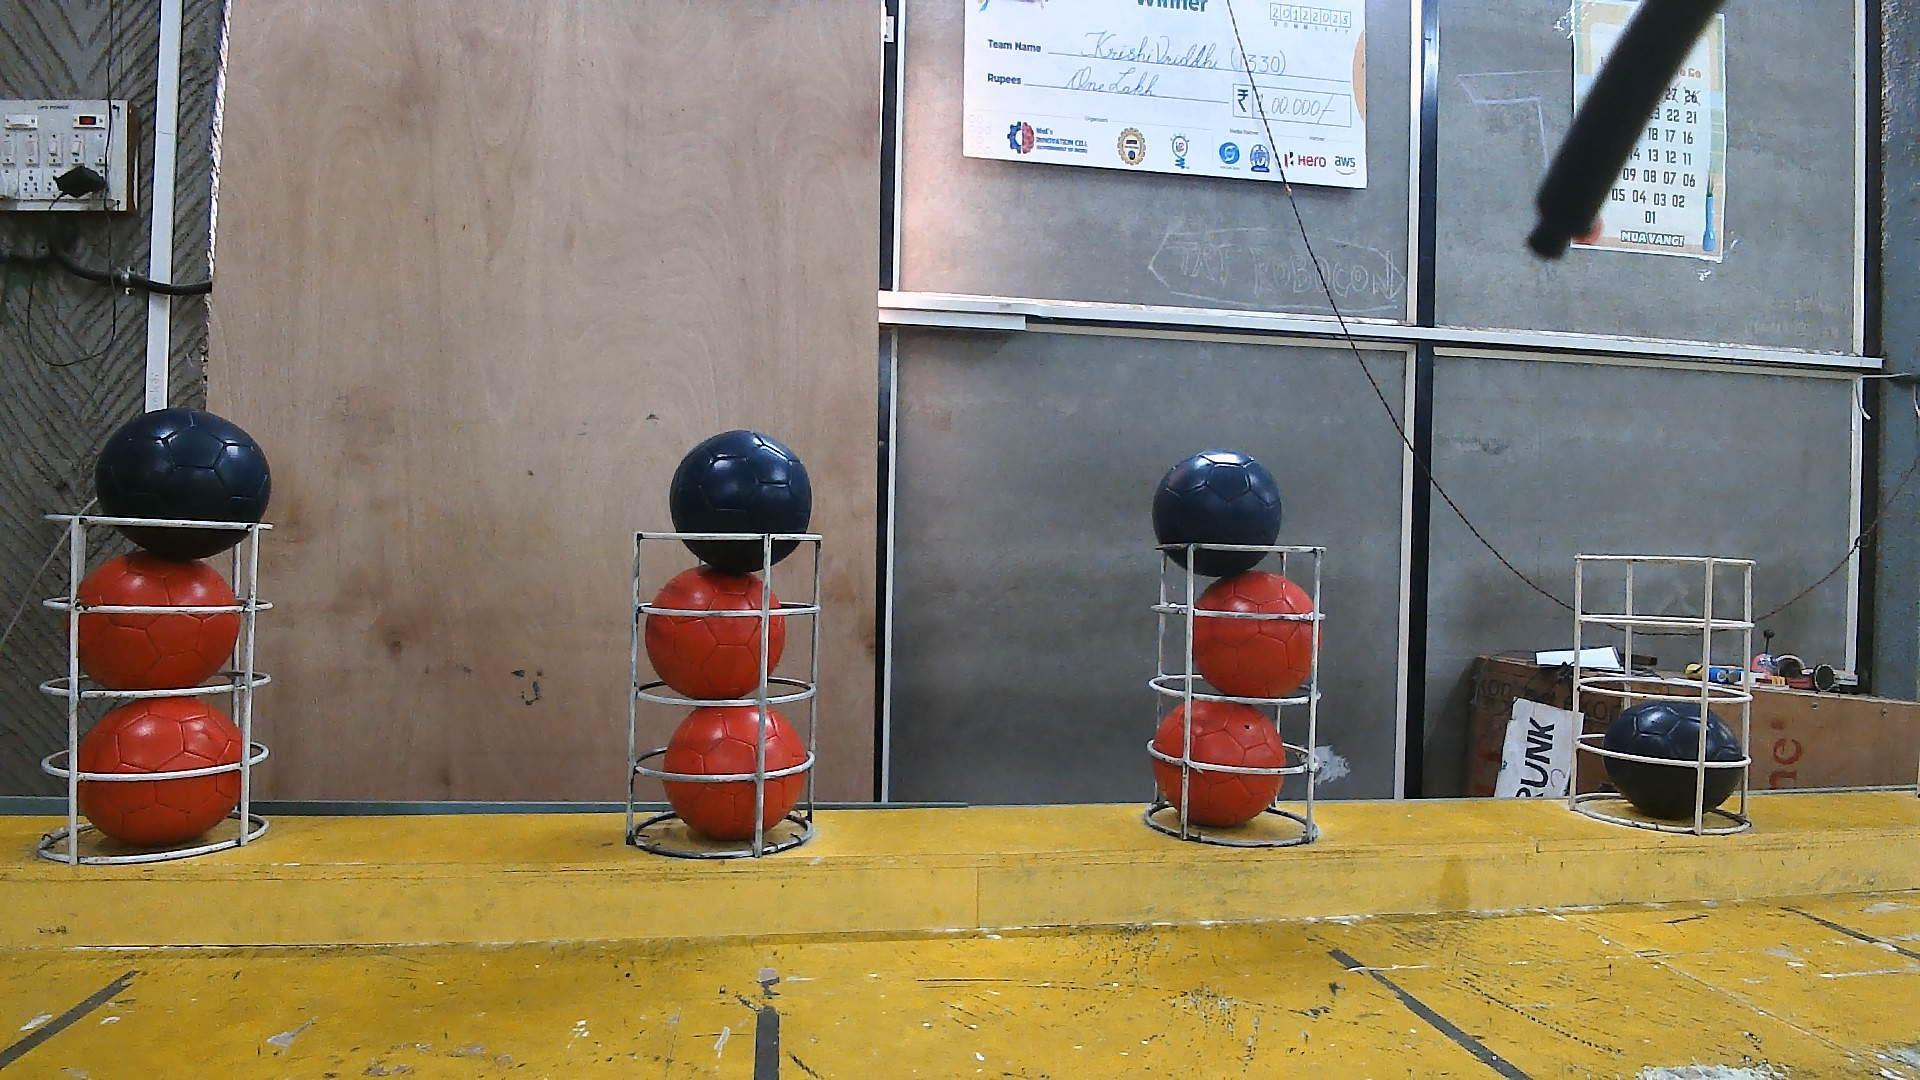dhoka: (94, 409, 270, 563), (667, 431, 814, 574), (1601, 698, 1743, 822), (1151, 450, 1283, 578)
laale: (75, 698, 255, 845), (63, 551, 240, 690), (659, 705, 806, 840), (645, 566, 787, 702), (1151, 698, 1286, 828), (1192, 570, 1316, 698)
